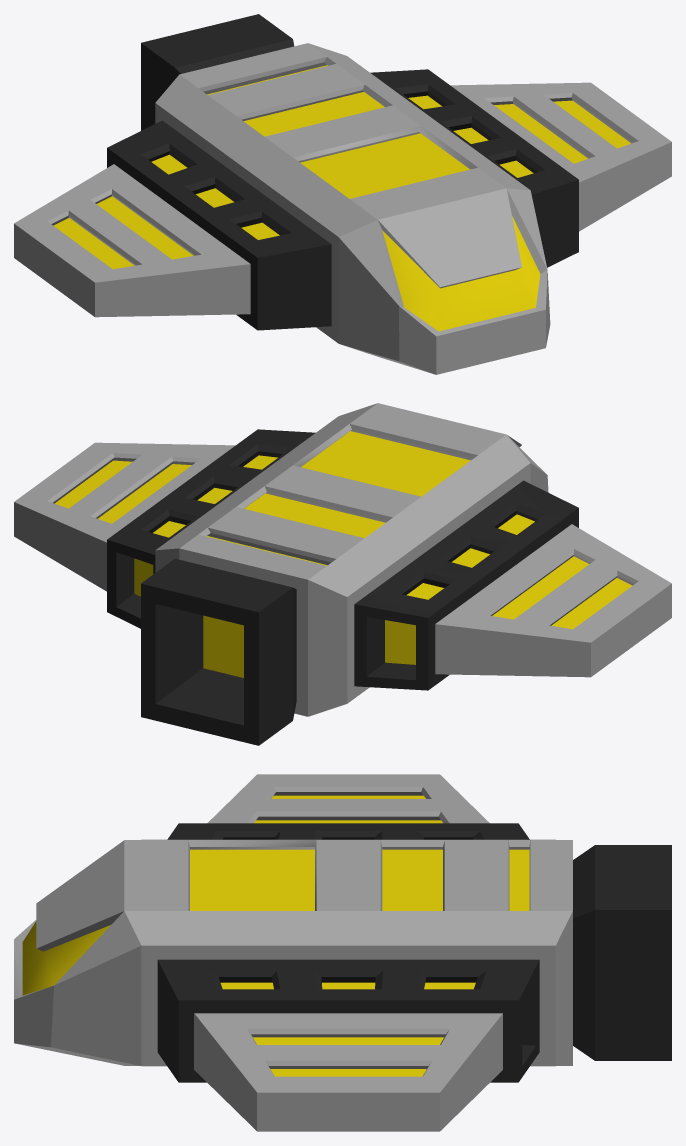
Rendered from theBUS.fbx.
3 renders of one model, top to bottom at view 1: azimuth 30°, elevation 25°; view 2: azimuth 150°, elevation 25°; view 3: azimuth 270°, elevation 25°, orthographic. The views are drawn at different scales.
Visible parts, largest first — view 1: theBUS__balanced; view 2: theBUS__balanced; view 3: theBUS__balanced.
Boxes of the visible parts, left/top/right/bottom form: theBUS__balanced: left=14, top=14, right=671, bottom=374; theBUS__balanced: left=14, top=403, right=671, bottom=745; theBUS__balanced: left=14, top=774, right=671, bottom=1131.
Size of the model in its own units: 5.58 by 1.27 by 4.88.
